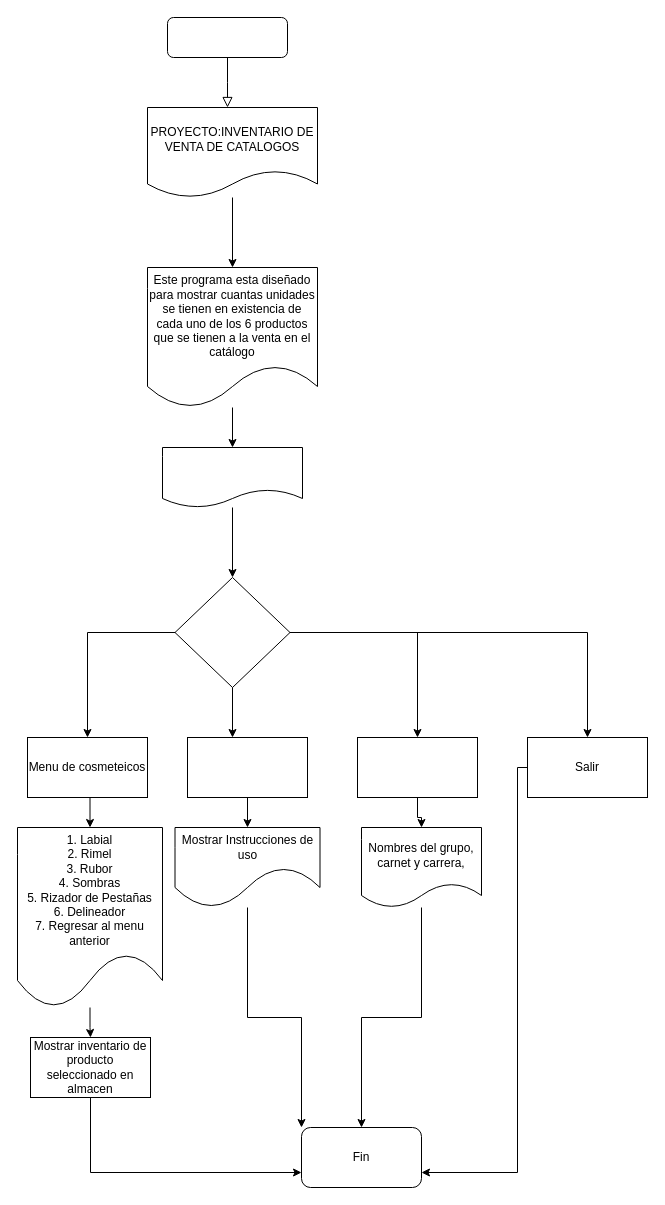
This 665x1205 diagram has some shape labels left out. The shapes that lost their labels are listed below. From the top down, each one's centre as x and y in pixels, then its label:
(227,37): Inicio
(232,477): Seleccione una opción
(232,632): Selección de Proceso
(247,767): Manual de usuario
(417,767): Creditos
